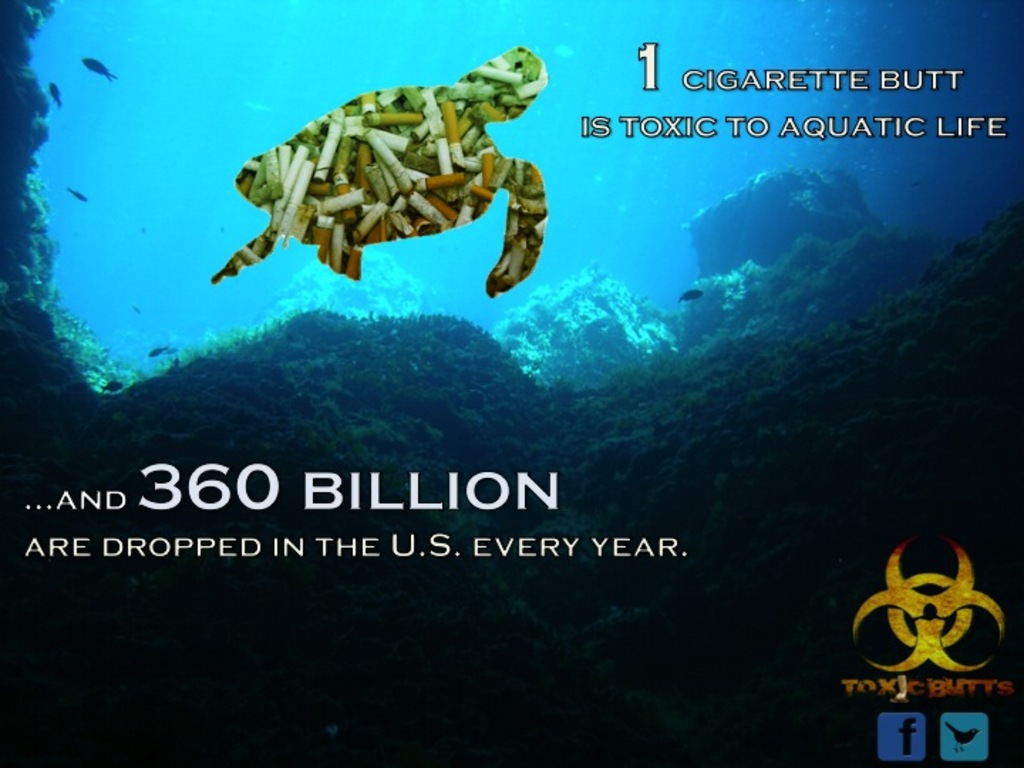Sea turtles: (207, 44, 553, 302)
